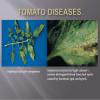Tomato Septoria leaf spot: (49, 21, 97, 66), (33, 23, 45, 39), (18, 50, 30, 65), (26, 43, 35, 61), (24, 21, 31, 39)
